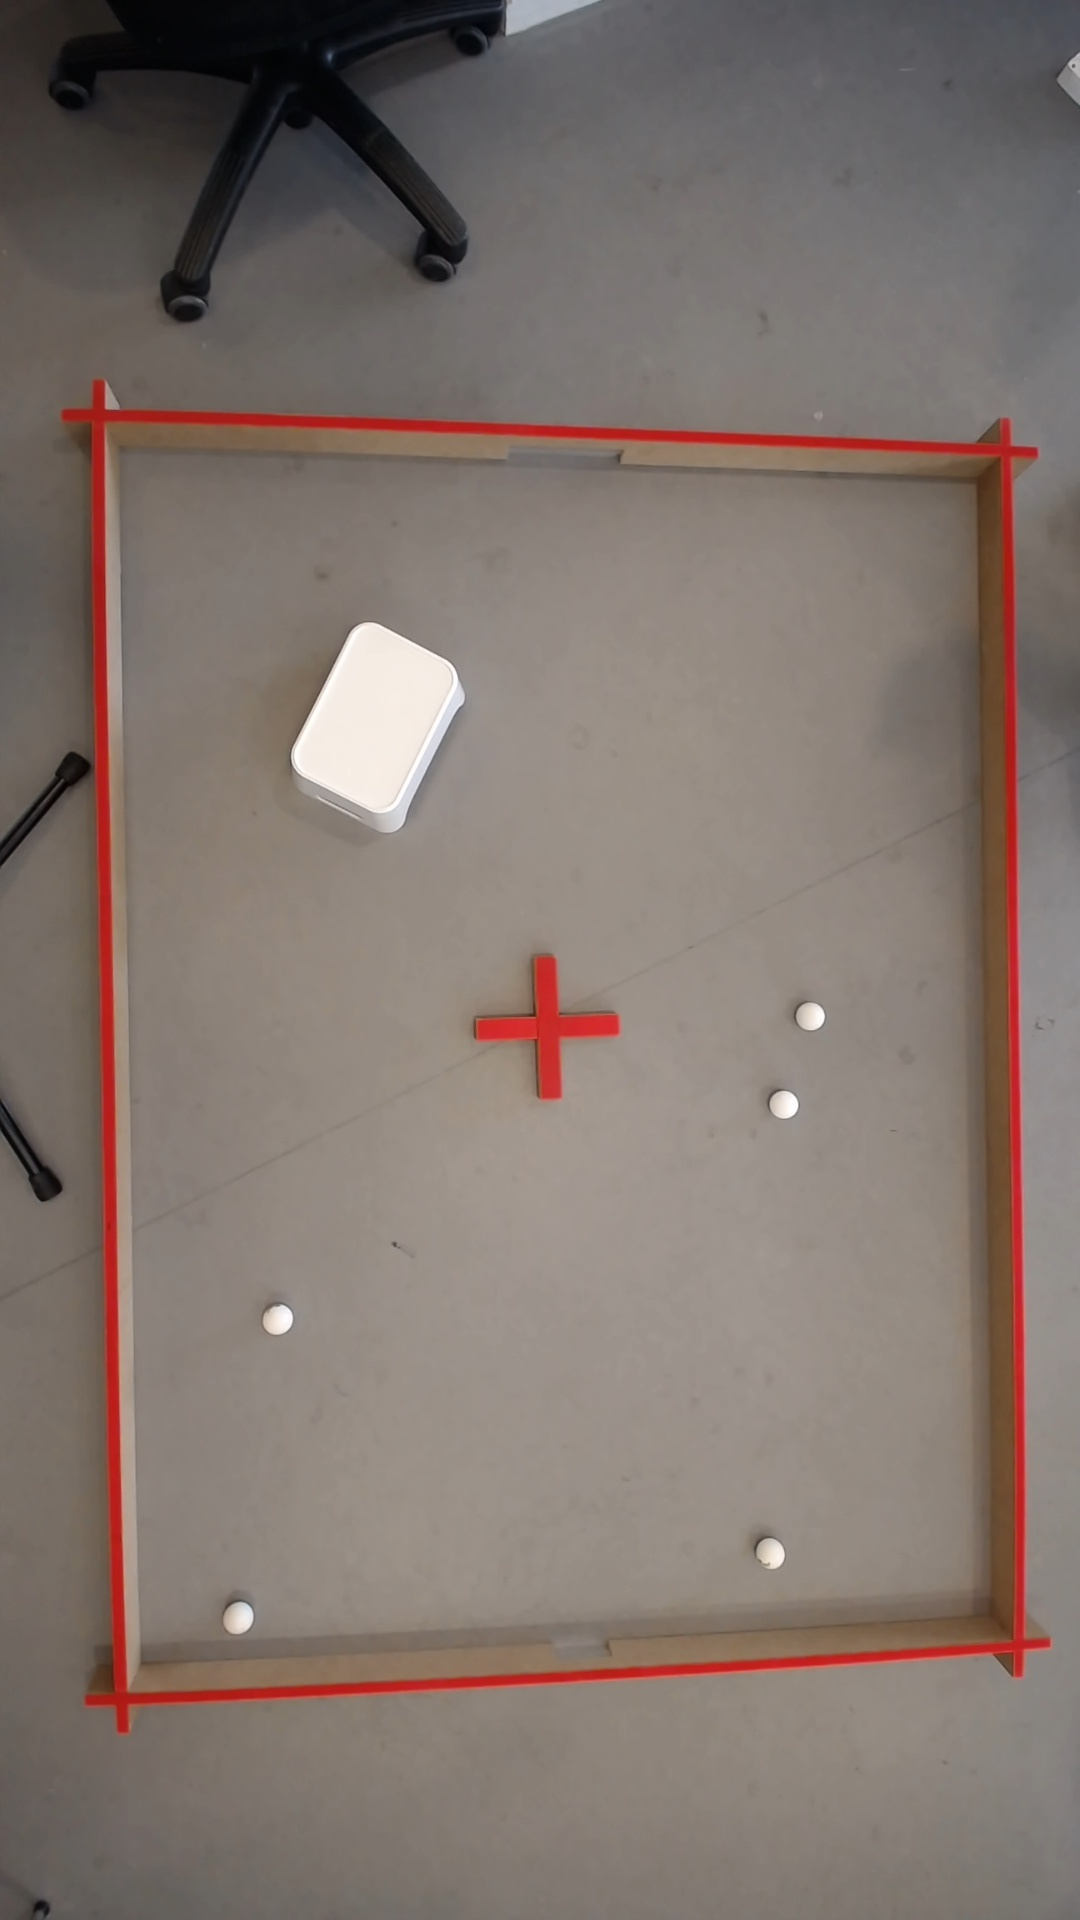balls: (281, 613, 477, 828), (261, 1300, 297, 1338), (224, 1598, 257, 1638), (767, 1087, 803, 1122)
car: (795, 998, 828, 1034)
